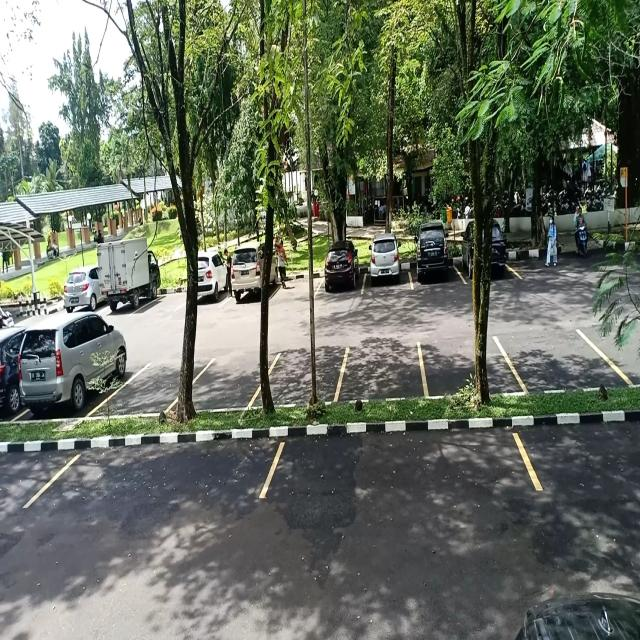empty: (269, 433, 540, 506), (48, 444, 275, 514), (422, 328, 512, 411), (511, 322, 610, 395), (338, 337, 426, 412), (258, 346, 345, 416), (109, 349, 193, 419), (188, 354, 262, 422)
occupied: (16, 323, 126, 418), (363, 243, 411, 295), (315, 248, 365, 296), (411, 241, 457, 290)
